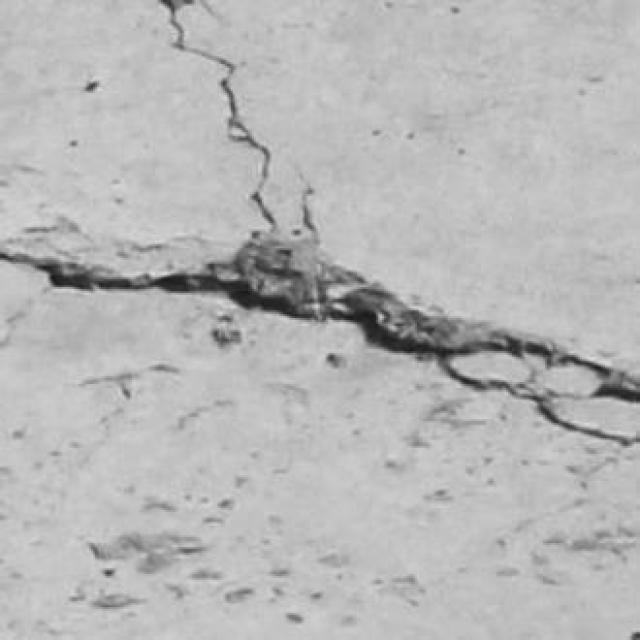crack: (0, 0, 639, 446), (0, 229, 639, 446), (160, 0, 277, 228)
